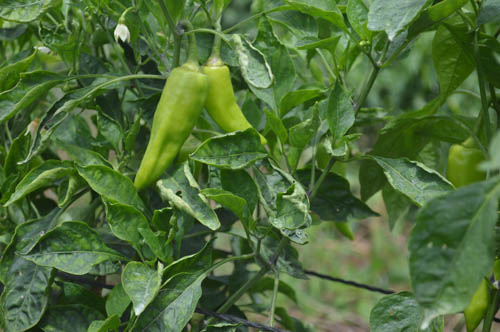ChiliPepper: (135, 71, 207, 201), (202, 66, 267, 142), (444, 145, 486, 197)
